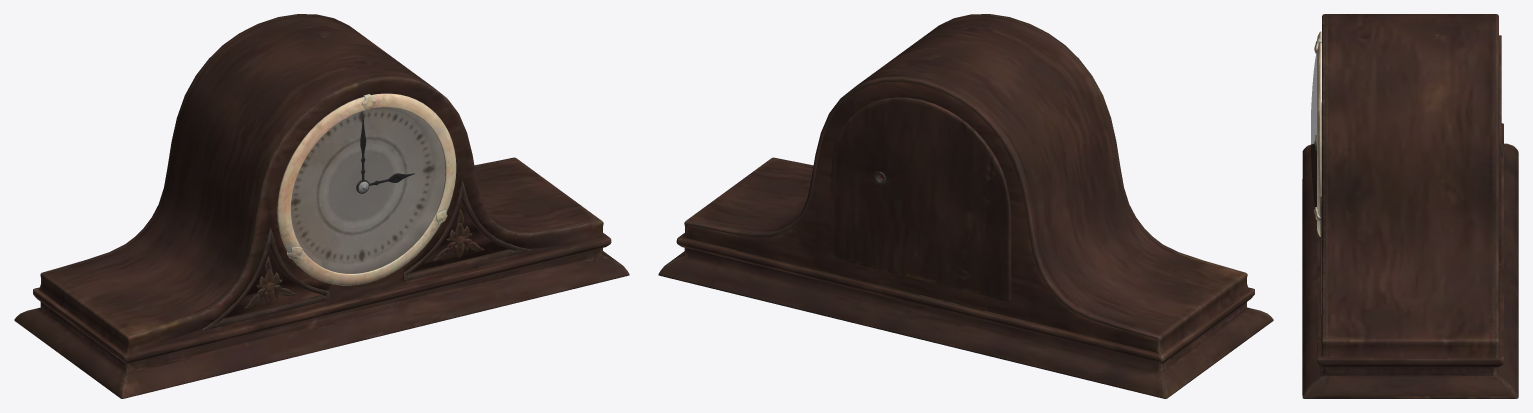
File: mantel_clock_01.glb
3 renders of one model, left to right at view 1: azimuth 30°, elevation 25°; view 2: azimuth 150°, elevation 25°; view 3: azimuth 270°, elevation 25°, orthographic.
Parts seen in each view (by area): view 1: mantel_clock_01, mantel_clock_01_glass; view 2: mantel_clock_01; view 3: mantel_clock_01, mantel_clock_01_glass.
Part boxes in pixels (box(x1,y1,x2,y2)): mantel_clock_01: box(14, 14, 629, 398); mantel_clock_01_glass: box(291, 107, 445, 273); mantel_clock_01: box(658, 14, 1273, 398); mantel_clock_01: box(1302, 14, 1518, 398); mantel_clock_01_glass: box(1311, 53, 1316, 207).
Size of the model in its own units: 0.3423 by 0.1605 by 0.1262.
Materials: 2 (2 with a texture image).
